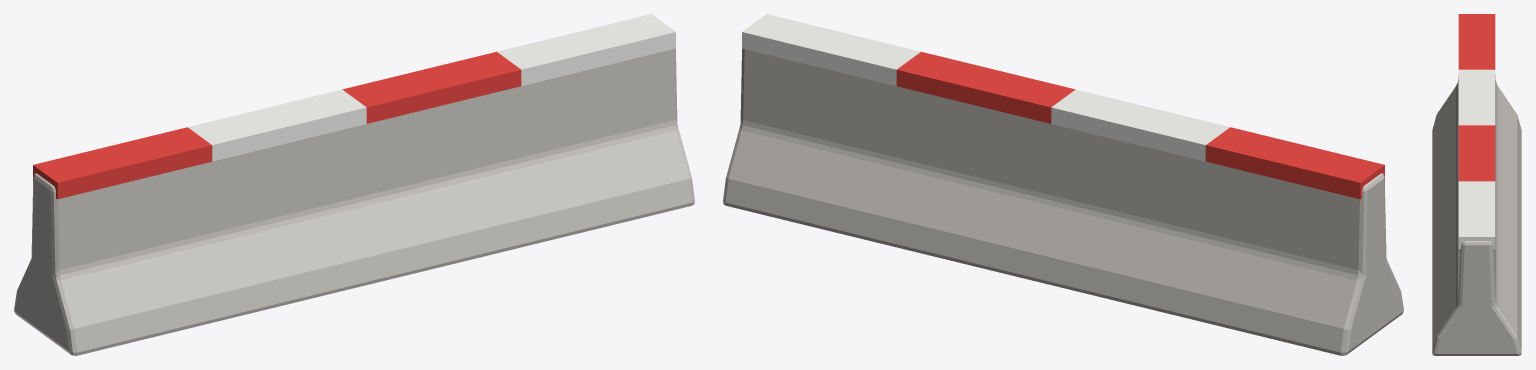
The model's file is barrier.glb.
3 views of the same model, side by side, from view 1: azimuth 30°, elevation 25°; view 2: azimuth 150°, elevation 25°; view 3: azimuth 270°, elevation 25° (orthographic). The views are drawn at different scales.
Parts seen in each view (by area): view 1: Jersey, Band0, Band2, Band1, Band3; view 2: Jersey, Band0, Band2, Band1, Band3; view 3: Jersey, Band3, Band2, Band1, Band0.
Part boxes in pixels (x1=…): Jersey: x1=14, y1=48, x2=694, y2=355; Band0: x1=33, y1=127, x2=212, y2=199; Band2: x1=342, y1=51, x2=521, y2=123; Band1: x1=188, y1=89, x2=366, y2=161; Band3: x1=497, y1=14, x2=675, y2=85; Jersey: x1=723, y1=48, x2=1403, y2=355; Band0: x1=1205, y1=127, x2=1384, y2=199; Band2: x1=896, y1=51, x2=1075, y2=123; Band1: x1=1051, y1=89, x2=1229, y2=161; Band3: x1=742, y1=14, x2=920, y2=85; Jersey: x1=1432, y1=75, x2=1521, y2=355; Band3: x1=1458, y1=181, x2=1495, y2=248; Band2: x1=1458, y1=125, x2=1495, y2=181; Band1: x1=1458, y1=69, x2=1495, y2=125; Band0: x1=1458, y1=14, x2=1495, y2=69.
Bounding box in the file's own units: 3.96 × 0.98 × 0.6654.
